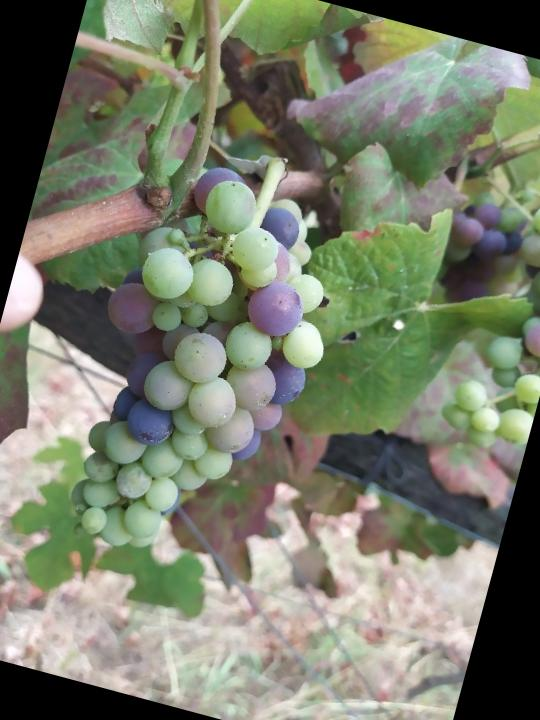grape: (43, 145, 367, 592)
